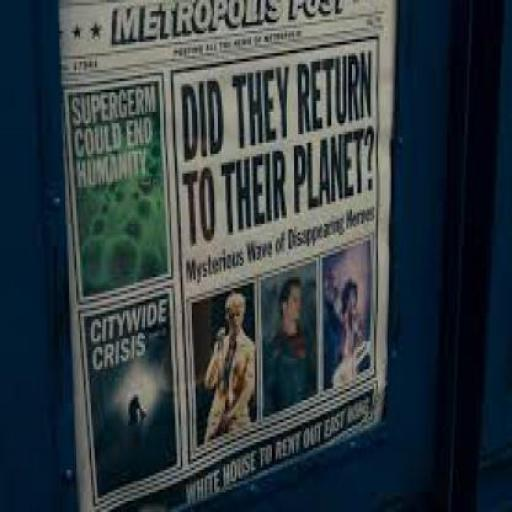paper: (54, 0, 395, 510)
